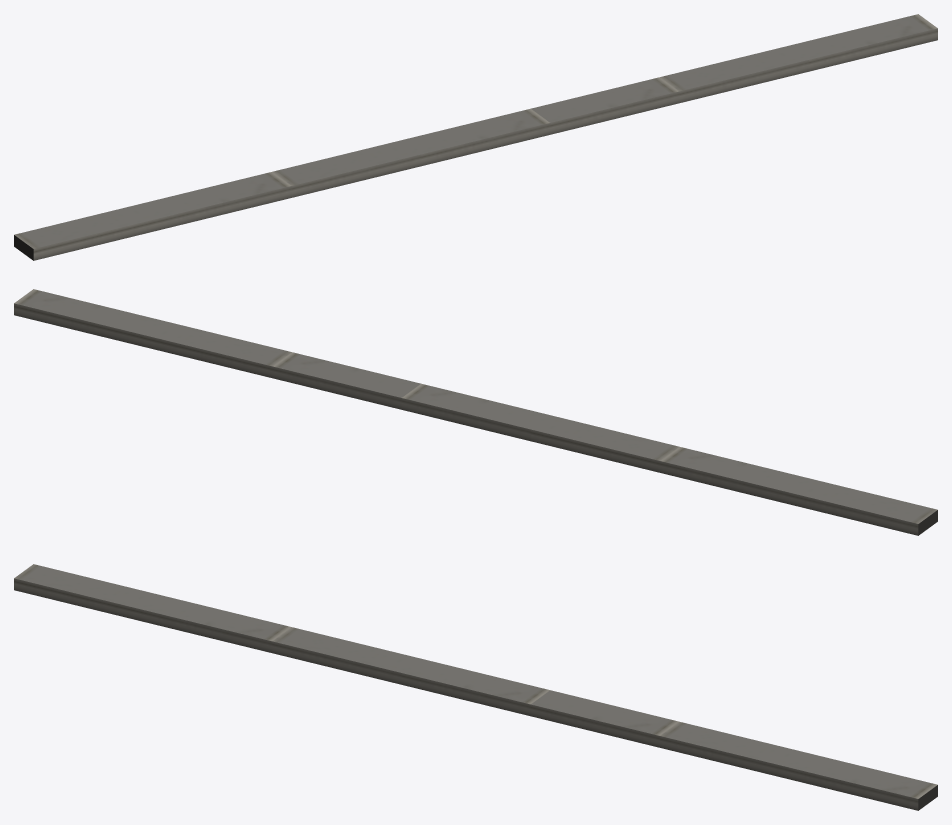
The model's file is shelf1.fbx.
3 renders of one model, top to bottom at view 1: azimuth 30°, elevation 25°; view 2: azimuth 150°, elevation 25°; view 3: azimuth 330°, elevation 25°, orthographic.
Parts seen in each view (by area): view 1: Cube; view 2: Cube; view 3: Cube.
Boxes of the visible parts, bbox=[...] form: Cube: bbox=[14, 14, 937, 260]; Cube: bbox=[14, 289, 937, 535]; Cube: bbox=[14, 564, 937, 810].
Size of the model in its own units: 800 by 10 by 30.
